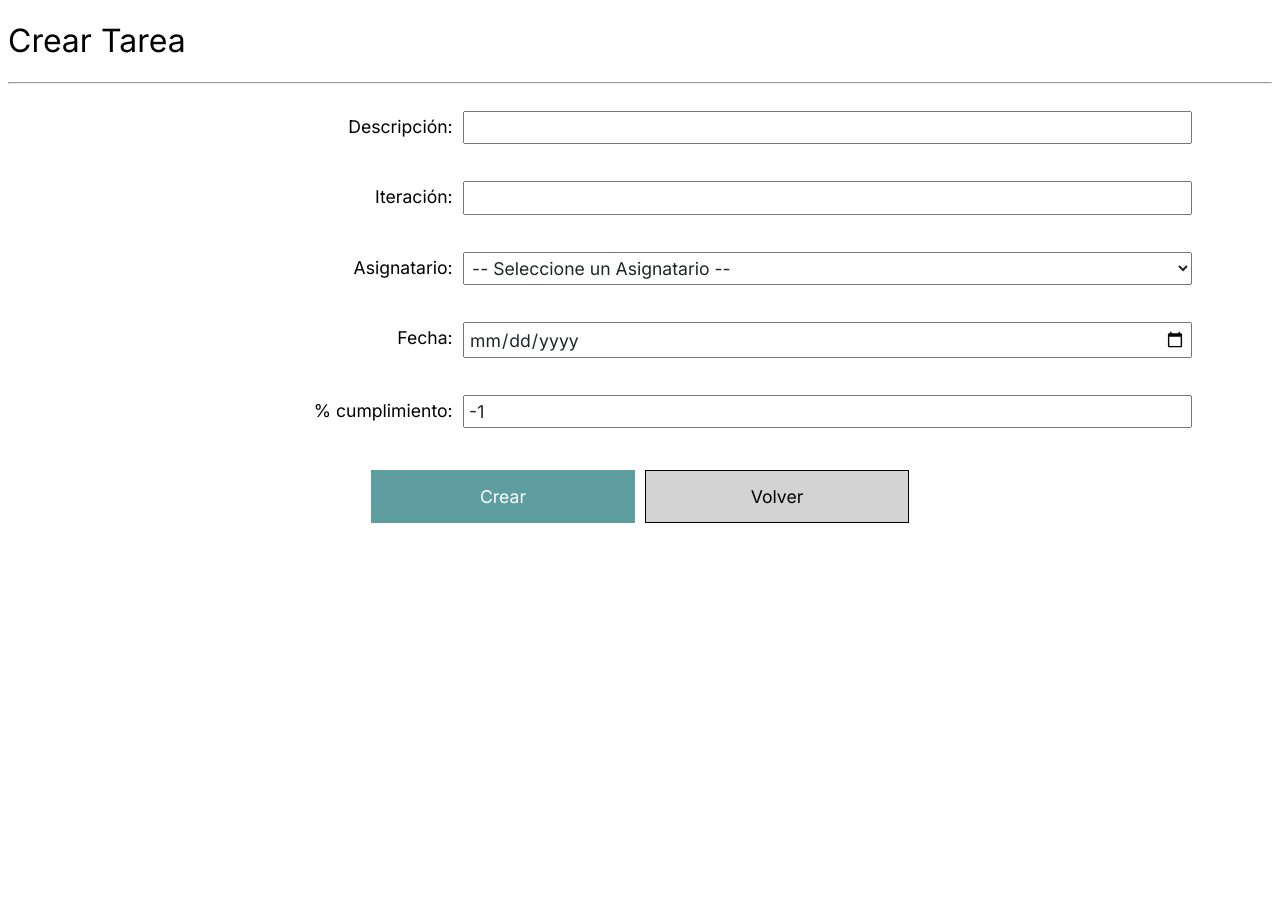
Test case: Crear una nueva tarea › si la tarea tiene errores de validación al hacer click en el botón "Guardar" debe mostrarlos
The width and height of the screenshot is (1280, 900).
Step 1. Click the button with test id "guardar" → (503, 497), box [371,470,635,523]
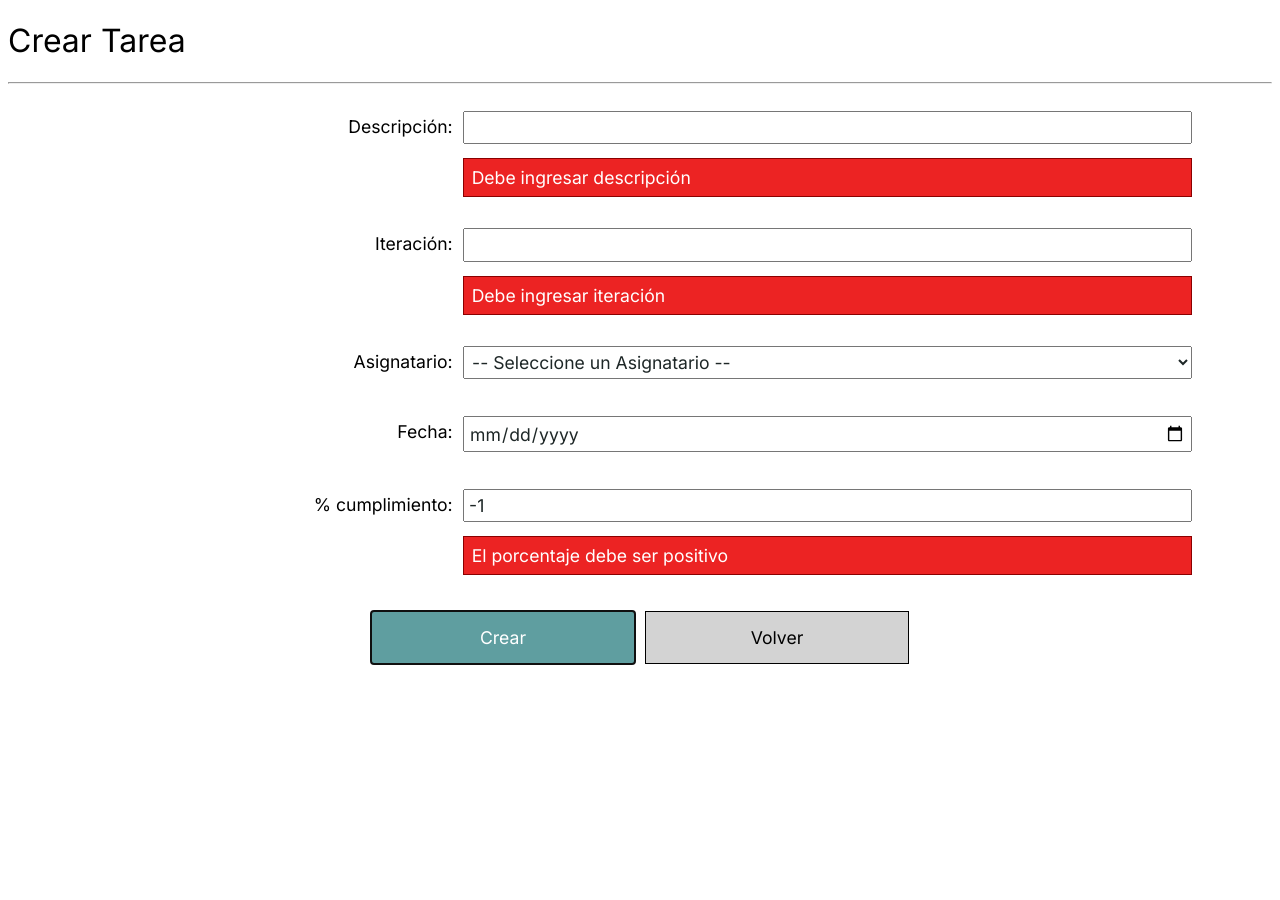
Now the text with test id "error-field-descripcion" reads "Debe ingresar descripción", box [472,167,691,188]
Now the text with test id "error-field-iteracion" reads "Debe ingresar iteración", box [472,285,665,306]
Now the text with test id "error-field-porcentajeCumplimiento" reads "El porcentaje debe ser positivo", box [472,546,728,566]
